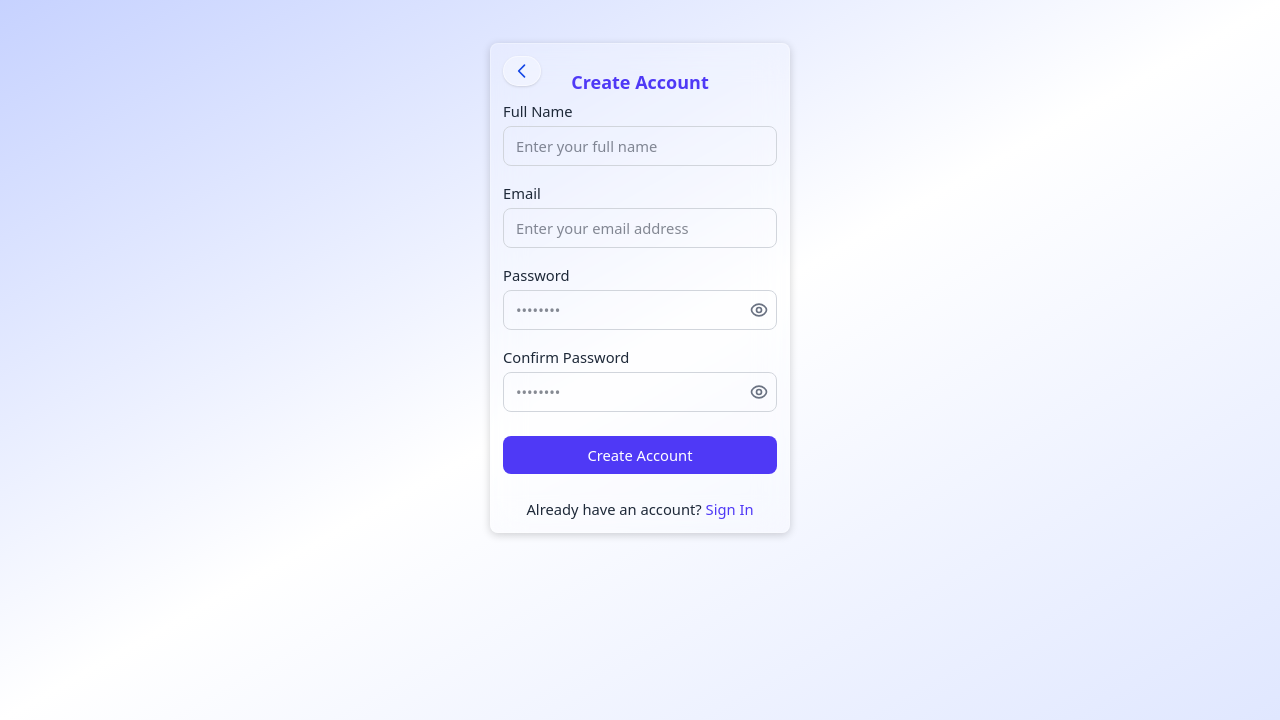
Test: SignUp Page › shows error if passwords do not match
The width and height of the screenshot is (1280, 720).
Type "Test User" into the field labelled "Full Name" at (640, 146), box [503, 126, 777, 166]
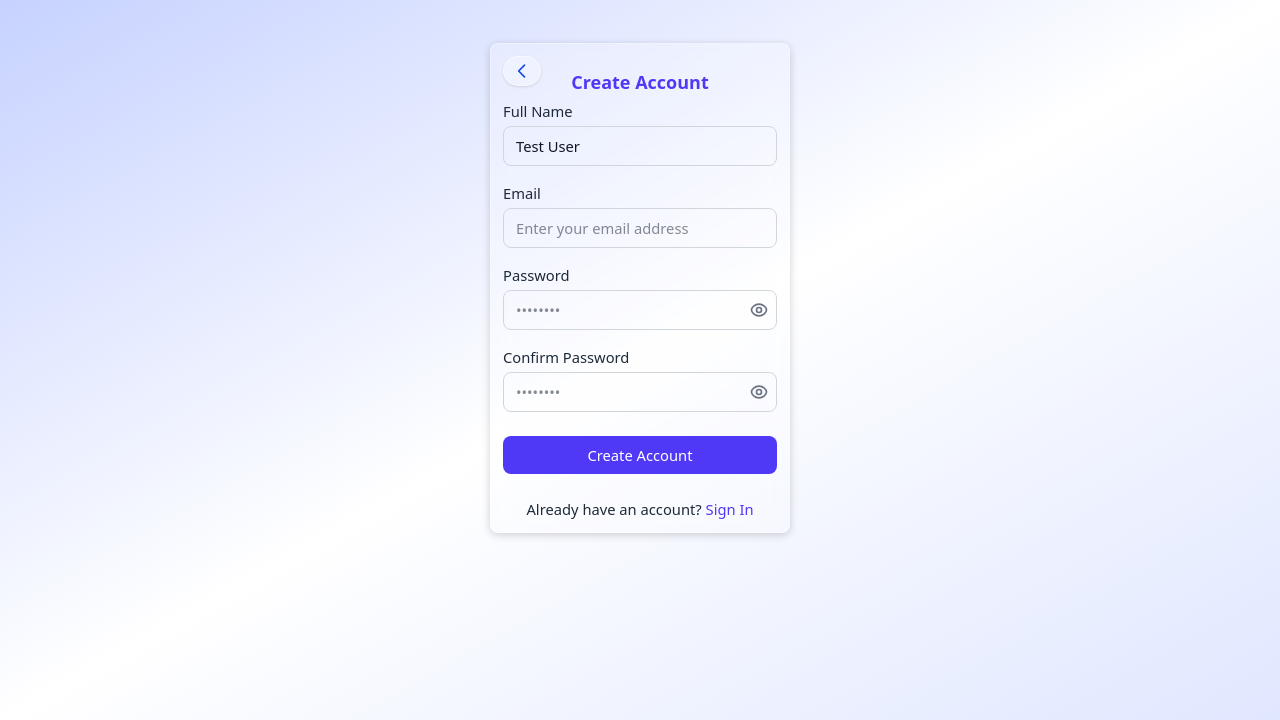
Type "test@example.com" into the field labelled "Email" at (640, 228), box [503, 208, 777, 248]
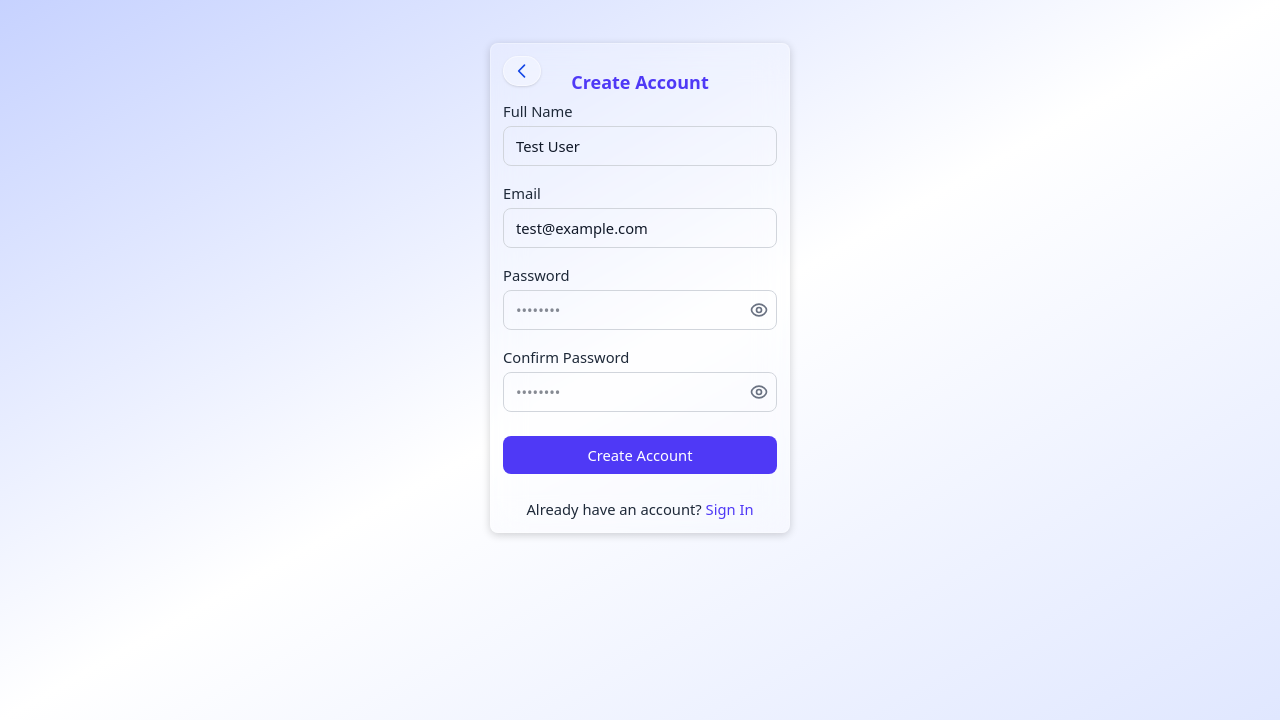
Type "abcdef" into the password field labelled "Password" at (640, 310), box [503, 290, 777, 330]
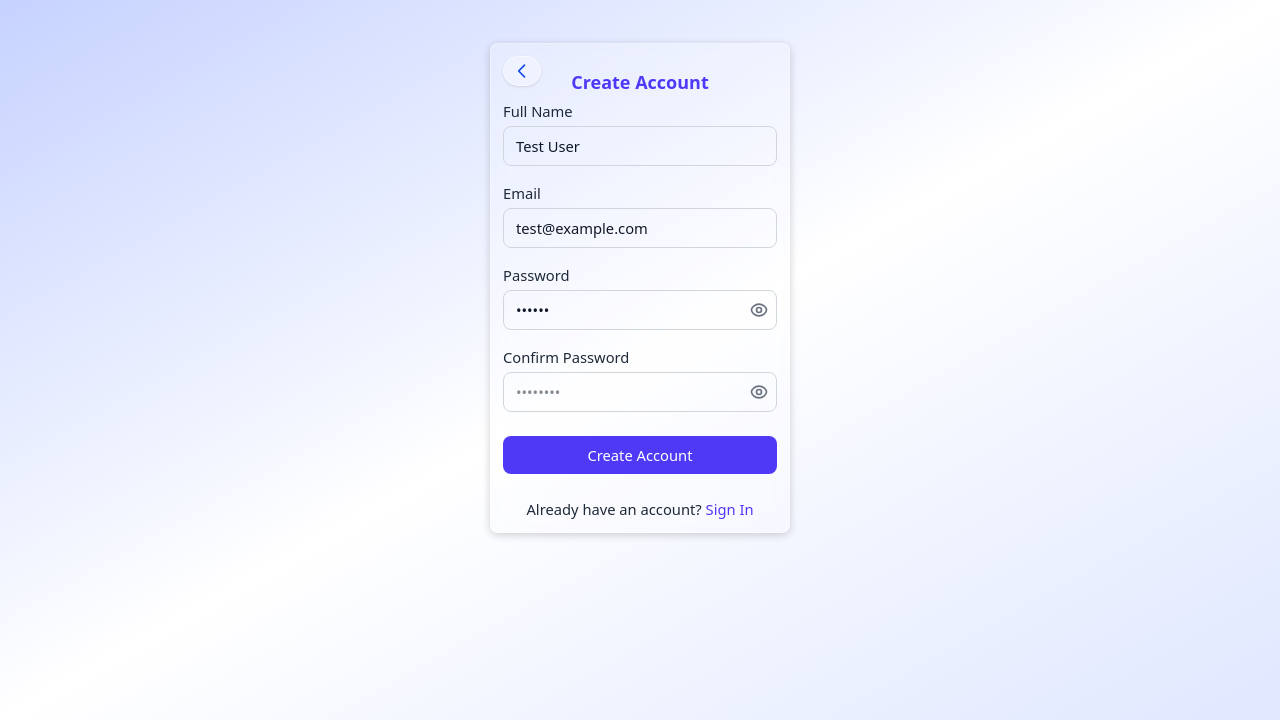
Type "abc123" into the password field labelled "Confirm Password" at (640, 392), box [503, 372, 777, 412]
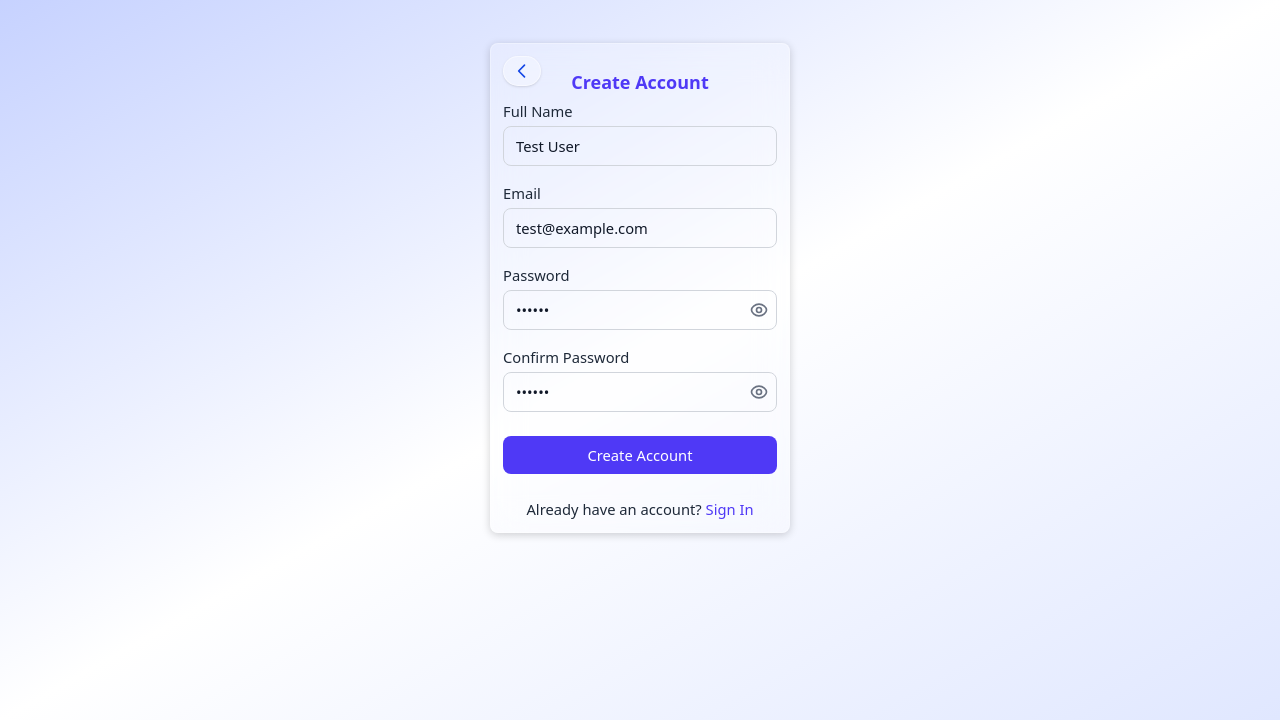
Click the button "Create Account" at (640, 455), box [503, 436, 777, 474]
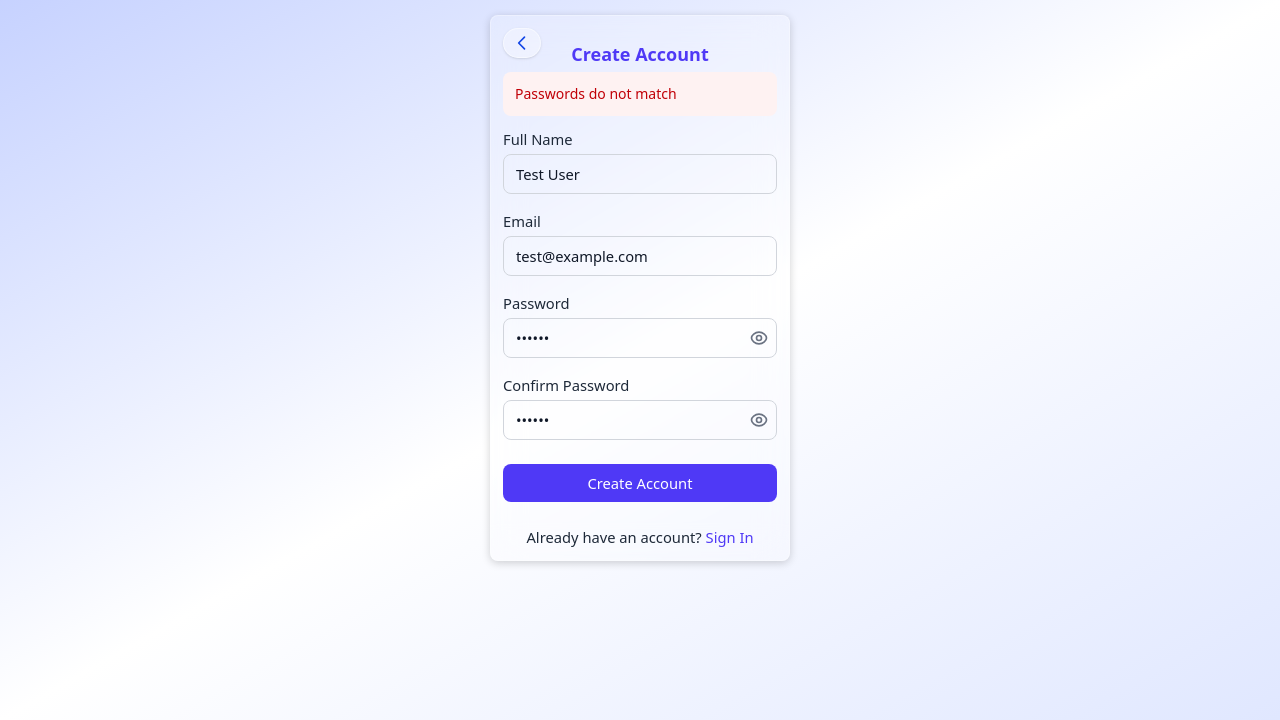
Expected: the text "Passwords do not match" is shown, [503, 72, 777, 116]
